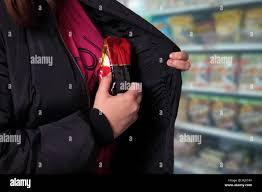shoplifting: (0, 0, 191, 192)
